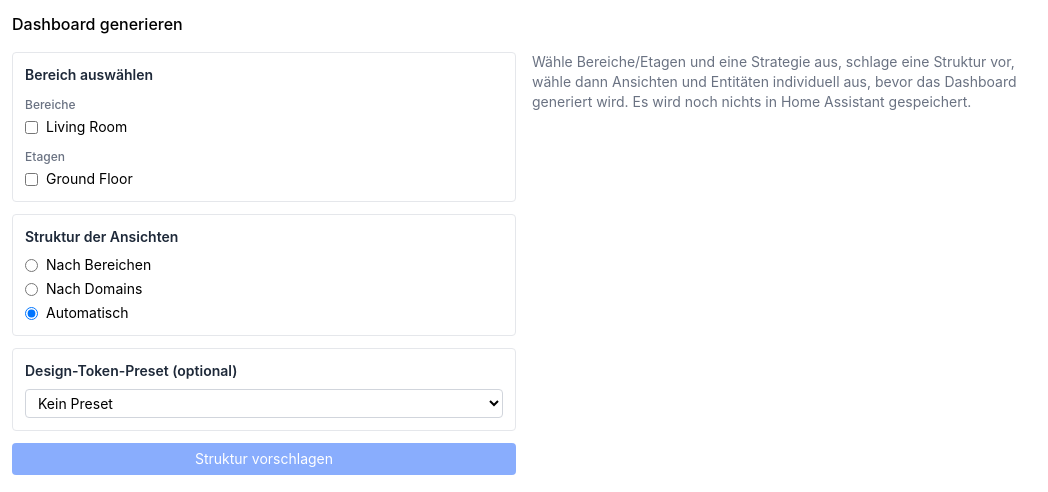
DashboardPage › proposes a structure, curates entities, generates, and offers a YAML download
The width and height of the screenshot is (1048, 492).
Later steps or results of the test are not shown.
What coordinates should you click on to do the following:
click the checkbox labelled "Living Room"
I would click on:
 (32, 127)
Its box is [25, 120, 38, 134].
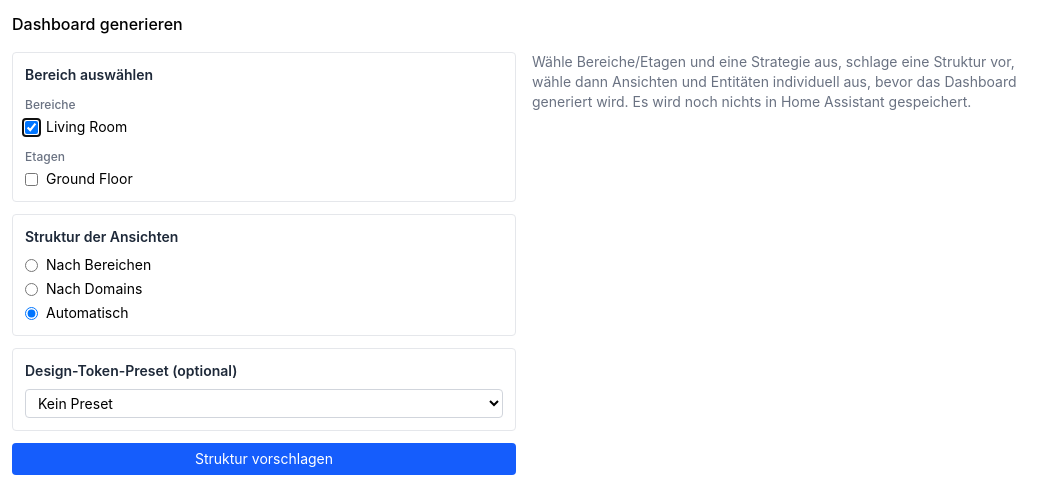
What coordinates should you click on to do the following:
click the button "Struktur vorschlagen"
I would click on:
 (264, 459)
Its box is [12, 443, 516, 475].
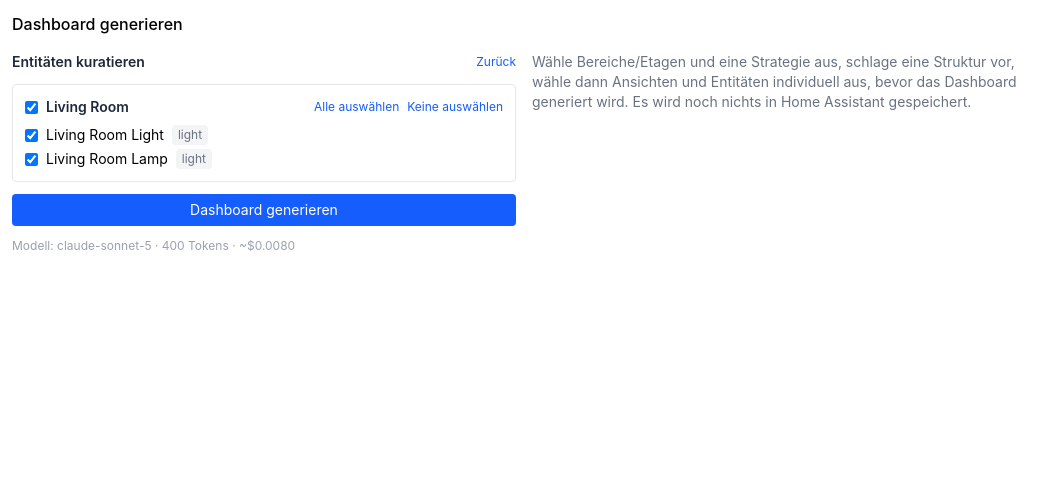
Result: the checkbox labelled "Living Room Light light" is checked at [25, 128, 38, 142]
Result: the checkbox labelled "Living Room Lamp light" is checked
Result: the heading "Entitäten kuratieren" is shown at [12, 52, 145, 72]
# Uncheck one entity before generating.
What coordinates should you click on to do the following:
click the checkbox labelled "Living Room Lamp light"
I would click on:
 (32, 159)
Its box is [25, 152, 38, 166].
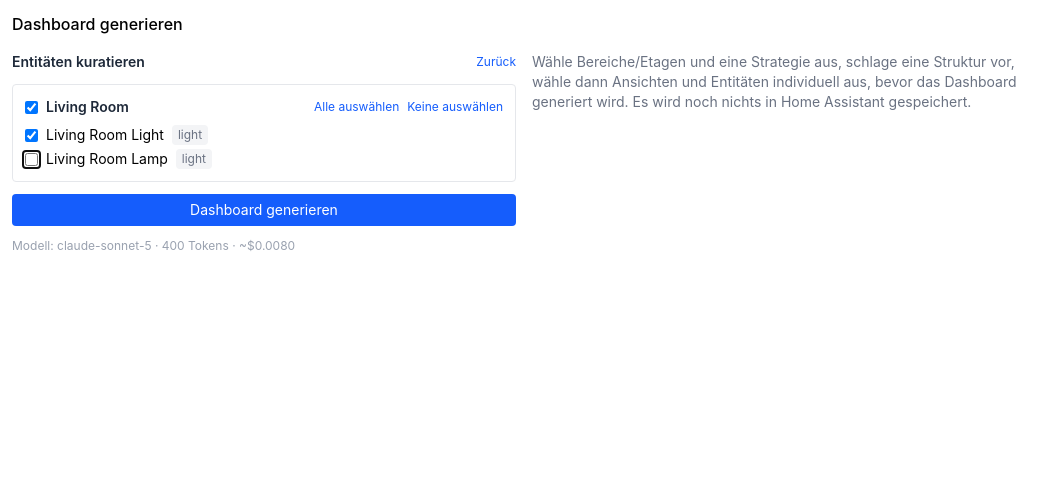
What coordinates should you click on to do the following:
click the button "Dashboard generieren"
I would click on:
 (264, 210)
Its box is [12, 194, 516, 226].
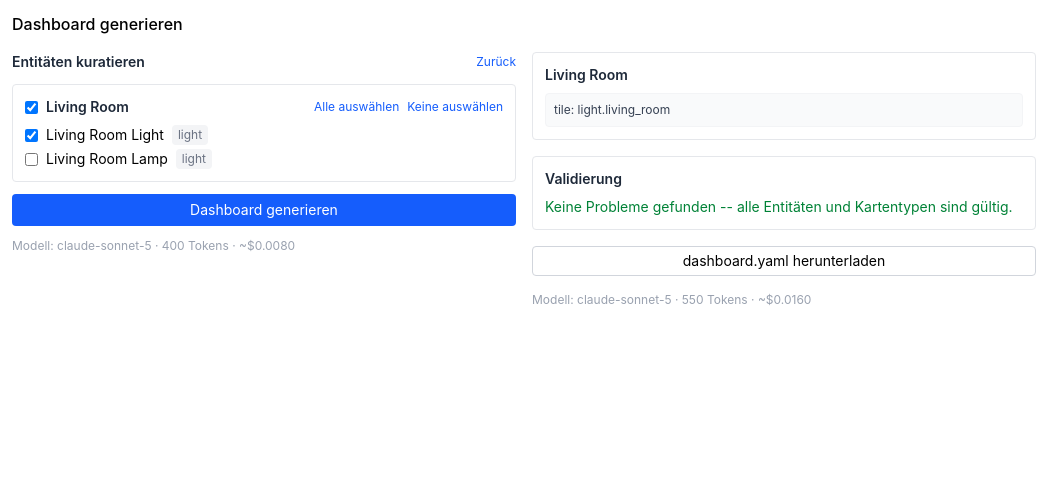
Result: the heading "Living Room" is shown at [545, 66, 628, 83]
Result: the list item "tile: light.living_room" is shown at [554, 102, 670, 117]
Result: the text "Keine Probleme gefunden -- alle Entitäten und Kartentypen sind gültig." is shown at [545, 197, 1023, 217]
